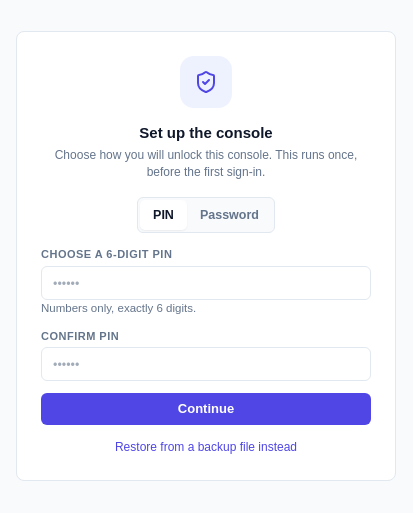
Setup — PIN mode validation › rejects mismatched PINs
The image size is (413, 513).
Type "123456" into the password field labelled "Choose a 6-digit PIN" at (206, 283), box [41,266,371,300]
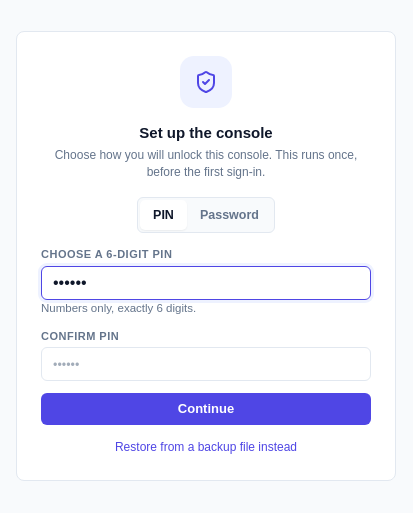
Type "654321" into the password field labelled "Confirm PIN" at (206, 364), box [41,347,371,381]
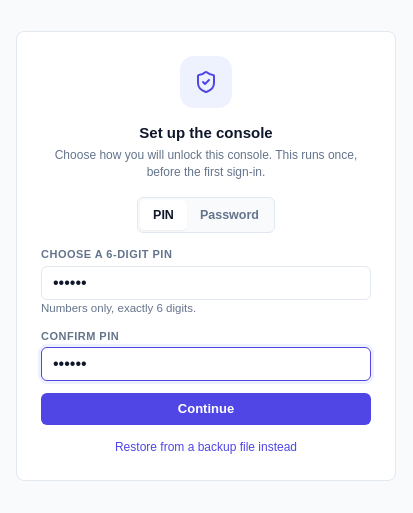
Click the button "Continue" at (206, 409), box [41,393,371,425]
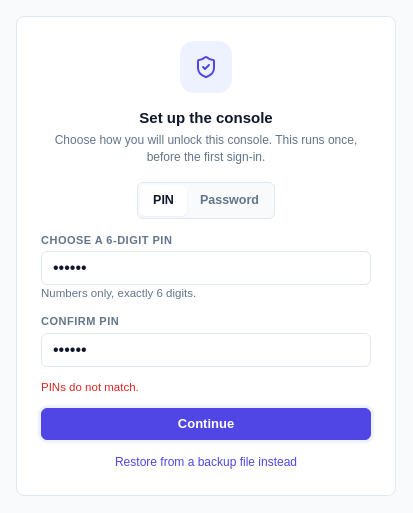
Check: the text "PINs do not match." is shown, box [41,381,139,393]
